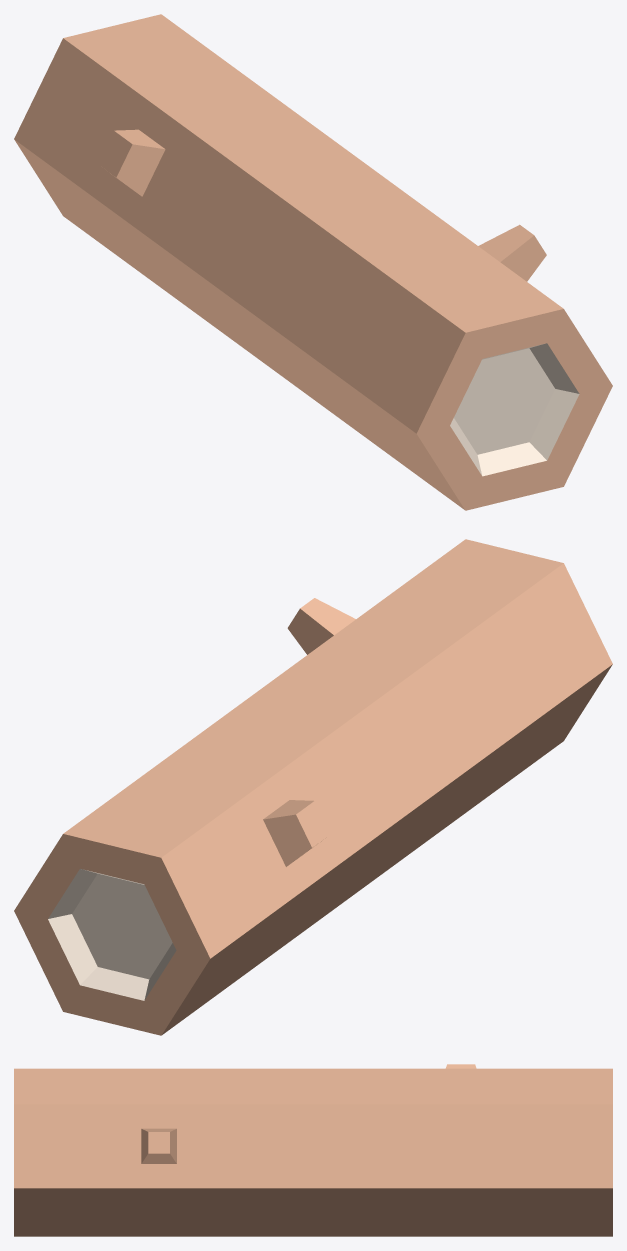
File: log.glb
The picture shows the model from 3 angles, top to bottom: view 1: azimuth 30°, elevation 25°; view 2: azimuth 150°, elevation 25°; view 3: azimuth 270°, elevation 25°; orthographic projection. The views are drawn at different scales.
Visible parts, largest first — view 1: log; view 2: log; view 3: log.
Part boxes in pixels (left/top/right/bottom): log: left=14, top=14, right=612, bottom=510; log: left=14, top=539, right=612, bottom=1035; log: left=14, top=1064, right=612, bottom=1236.
Size of the model in its own units: 0.234 by 0.1732 by 0.71.
Materials: 1 (1 with a texture image).
